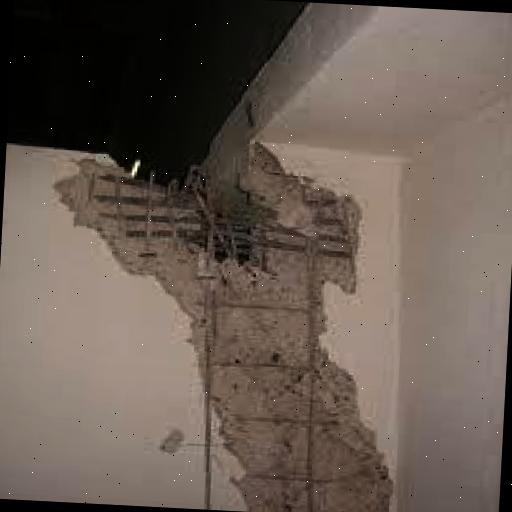spalling: (56, 147, 391, 512)
